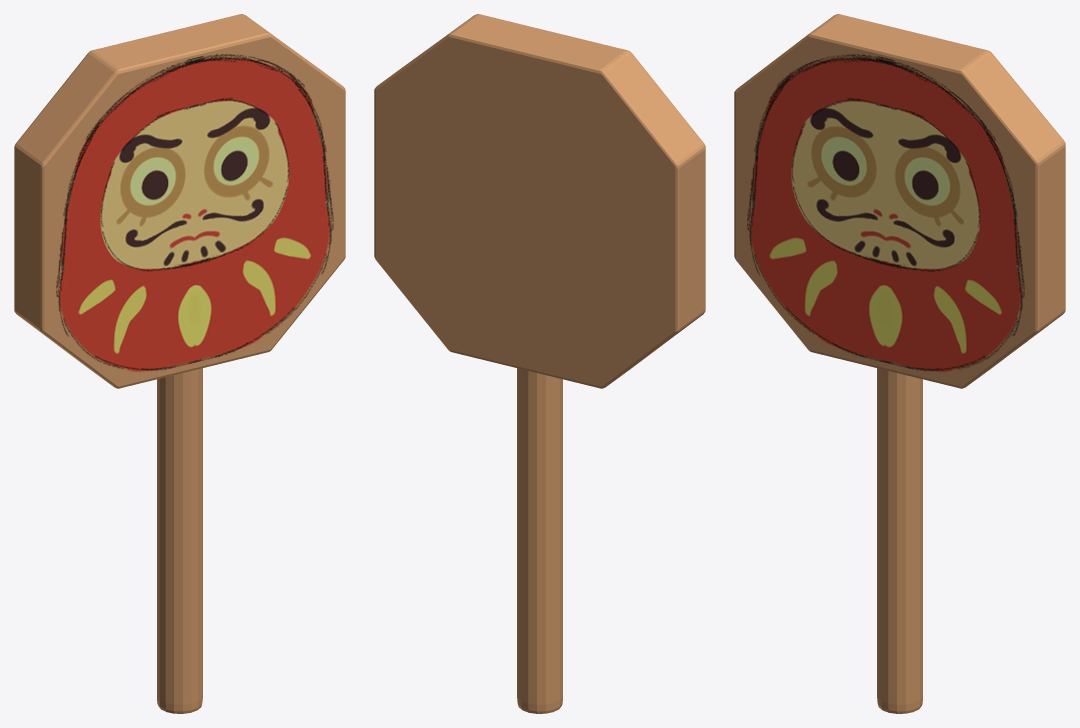
Rendered from TargetDaruma.fbx.
3 views of the same model, side by side, from view 1: azimuth 30°, elevation 25°; view 2: azimuth 150°, elevation 25°; view 3: azimuth 330°, elevation 25° (orthographic).
Parts seen in each view (by area): view 1: TargetDaruma; view 2: TargetDaruma; view 3: TargetDaruma.
Part boxes in pixels (x1=…): TargetDaruma: x1=14, y1=14, x2=345, y2=713; TargetDaruma: x1=374, y1=14, x2=705, y2=713; TargetDaruma: x1=734, y1=14, x2=1065, y2=713.
Bounding box in the file's own units: 235 × 489 × 38.8.
Materials: 2 (1 with a texture image).
